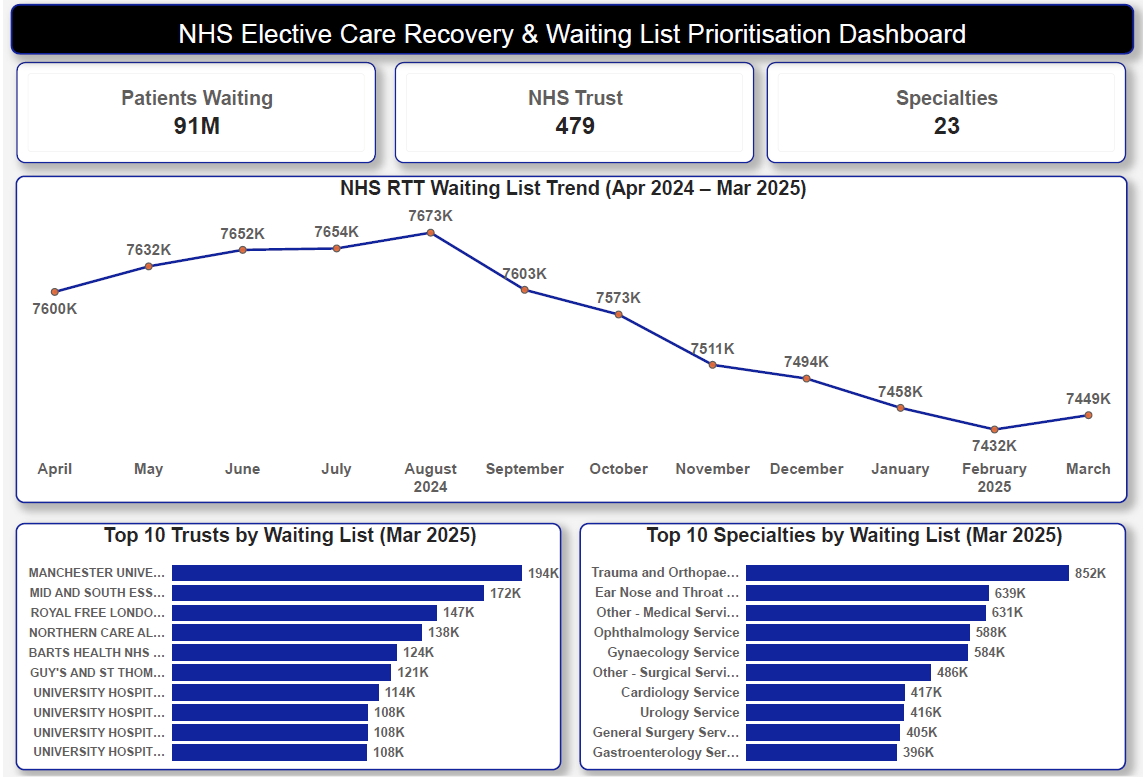

The dashboard page shown, as its layout file describes it:
{"tool":"powerbi","page":{"name":"Executive Summary","canvas":[1400,950],"ordinal":0},"visuals":[{"type":"cardVisual","fields":{"Data":["Caculated Measure.Total Waiting List"]},"box":[15.5,75.3,440,124.1],"z":0},{"type":"cardVisual","fields":{"Data":["Caculated Measure.Specialty Count"]},"box":[933.6,74.8,440,123.9],"z":1000},{"type":"cardVisual","fields":{"Data":["Caculated Measure.Trust Count"]},"box":[478.6,74.8,440.1,123.9],"z":2000},{"type":"lineChart","title":"NHS RTT Waiting List Trend (Apr 2024 – Mar 2025)","fields":{"Y":["Caculated Measure.Total Waiting List"],"Category":["Raw Data.Report_Month.Variation.Date Hierarchy.Year","Raw Data.Report_Month.Variation.Date Hierarchy.Month","Raw Data.Report_Month.Variation.Date Hierarchy.Day"]},"box":[15,213.6,1360.9,401.7],"z":3000},{"type":"clusteredBarChart","title":"Top 10 Trusts by Waiting List (Mar 2025)","fields":{"Category":["Raw Data.Trust_Name"],"Y":["Caculated Measure.Total Waiting List"]},"box":[15,638.8,668,303],"z":4000},{"type":"clusteredBarChart","title":"Top 10 Specialties by Waiting List (Mar 2025)","fields":{"Category":["Raw Data.Specialty_Name"],"Y":["Caculated Measure.Total Waiting List"]},"box":[705,638.8,668.7,303.4],"z":5000},{"type":"textbox","box":[8.9,4.4,1375.6,62],"z":6000}]}

Visuals, with their boxes in screenshot pixels (x1, y1, x2, y2), scaled from the page's 1400x950 canvas onto the 1143x778 screenshot:
cardVisual - Caculated Measure.Total Waiting List: (13, 62, 372, 163)
cardVisual - Caculated Measure.Specialty Count: (762, 61, 1121, 163)
cardVisual - Caculated Measure.Trust Count: (391, 61, 750, 163)
"NHS RTT Waiting List Trend (Apr 2024 – Mar 2025)" lineChart: (12, 175, 1123, 504)
"Top 10 Trusts by Waiting List (Mar 2025)" clusteredBarChart: (12, 523, 558, 771)
"Top 10 Specialties by Waiting List (Mar 2025)" clusteredBarChart: (576, 523, 1122, 772)
textbox: (7, 4, 1130, 54)
